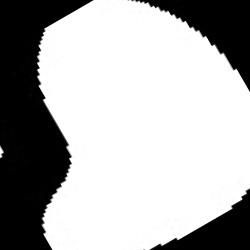spot: (34, 0, 248, 248)
